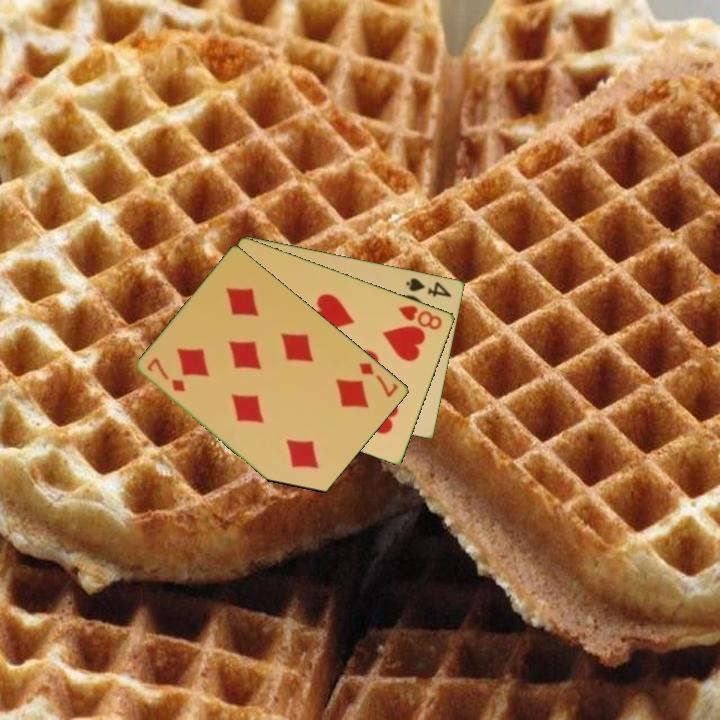4s: (403, 274, 455, 300)
7d: (143, 354, 189, 395), (356, 359, 401, 400)
8h: (395, 301, 445, 333)
